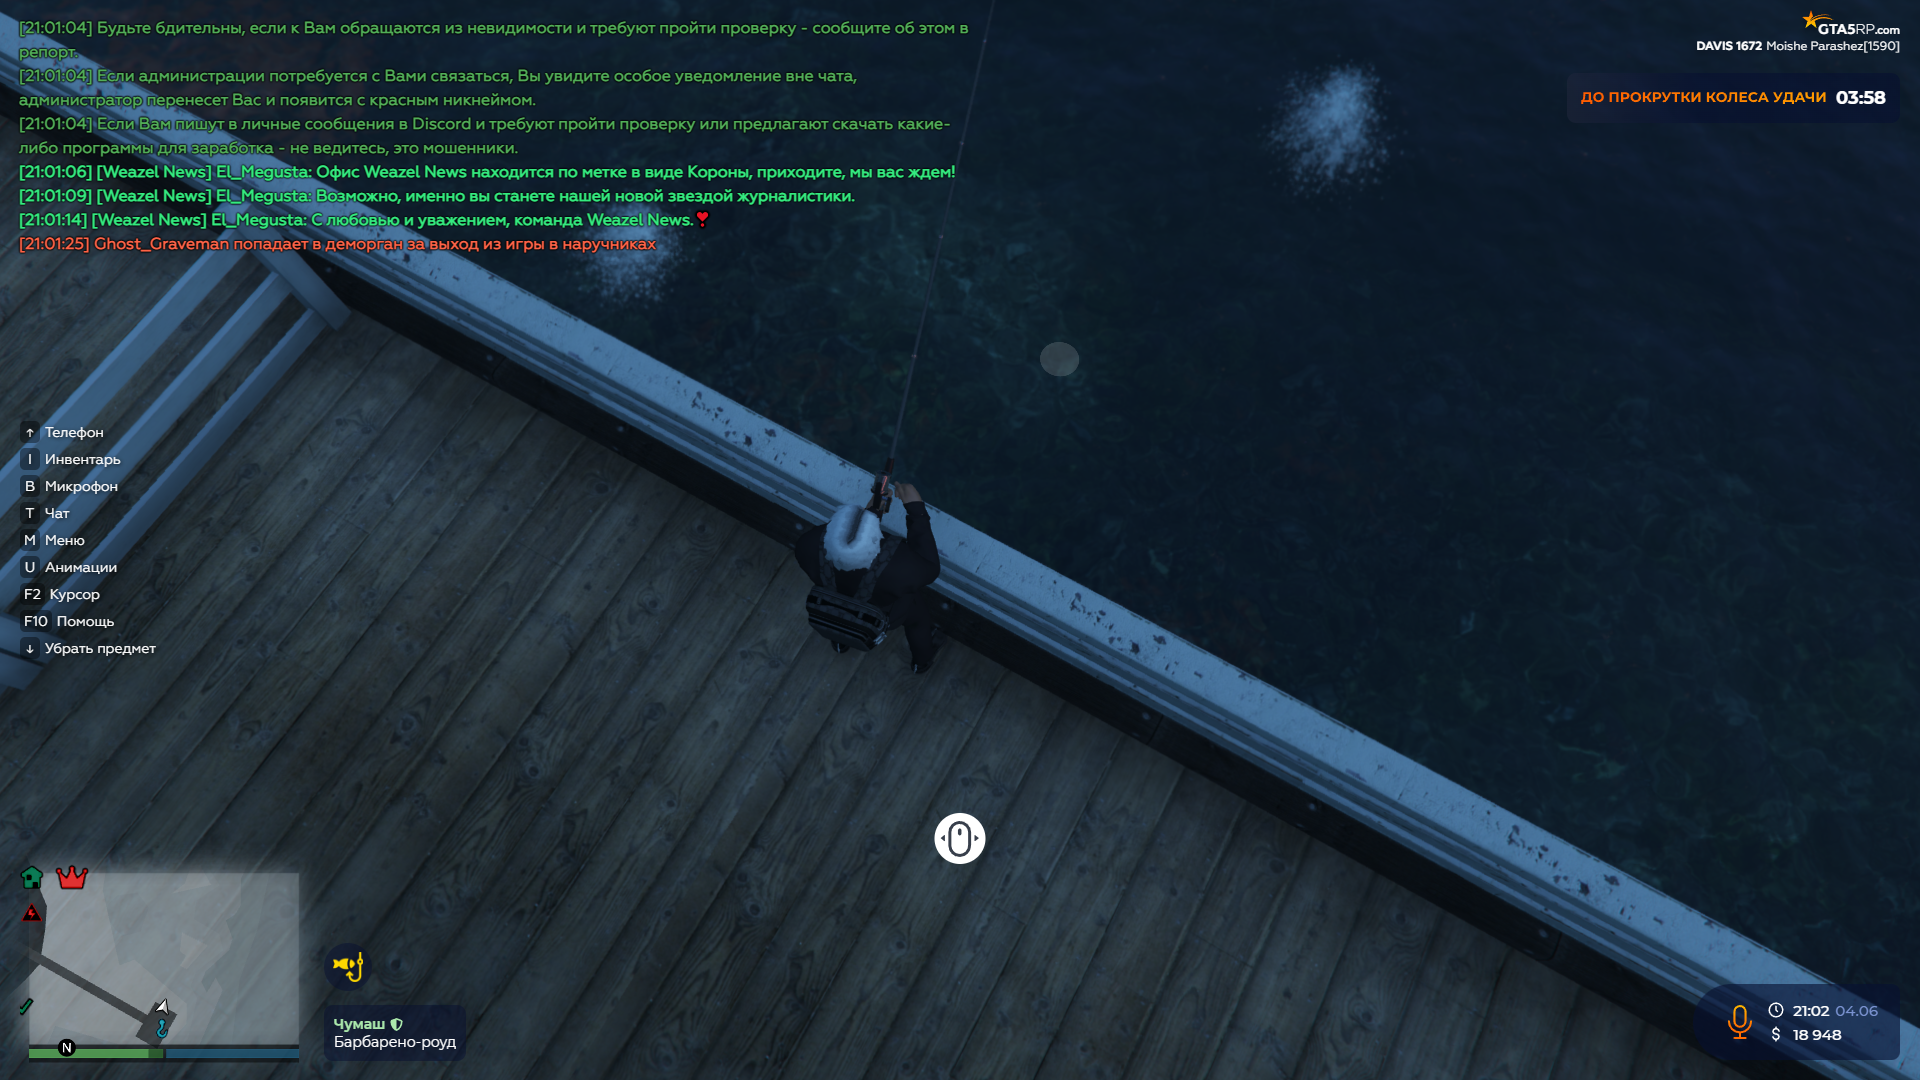circle: (1038, 340, 1080, 378)
